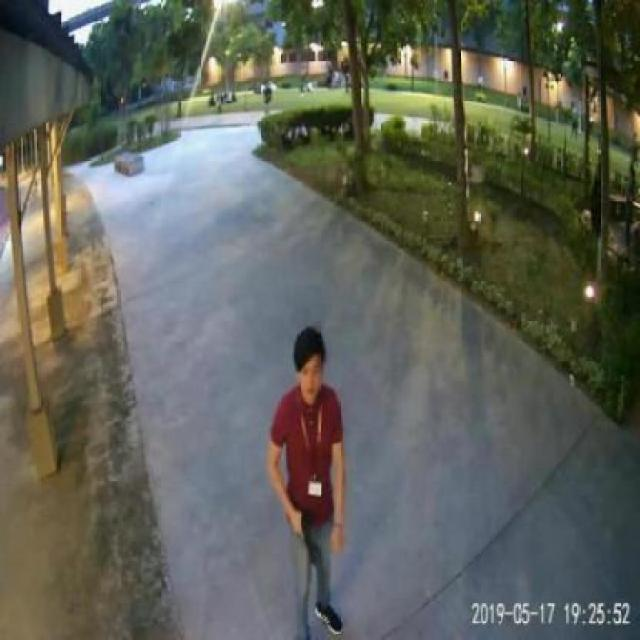gun: (292, 510, 314, 564)
